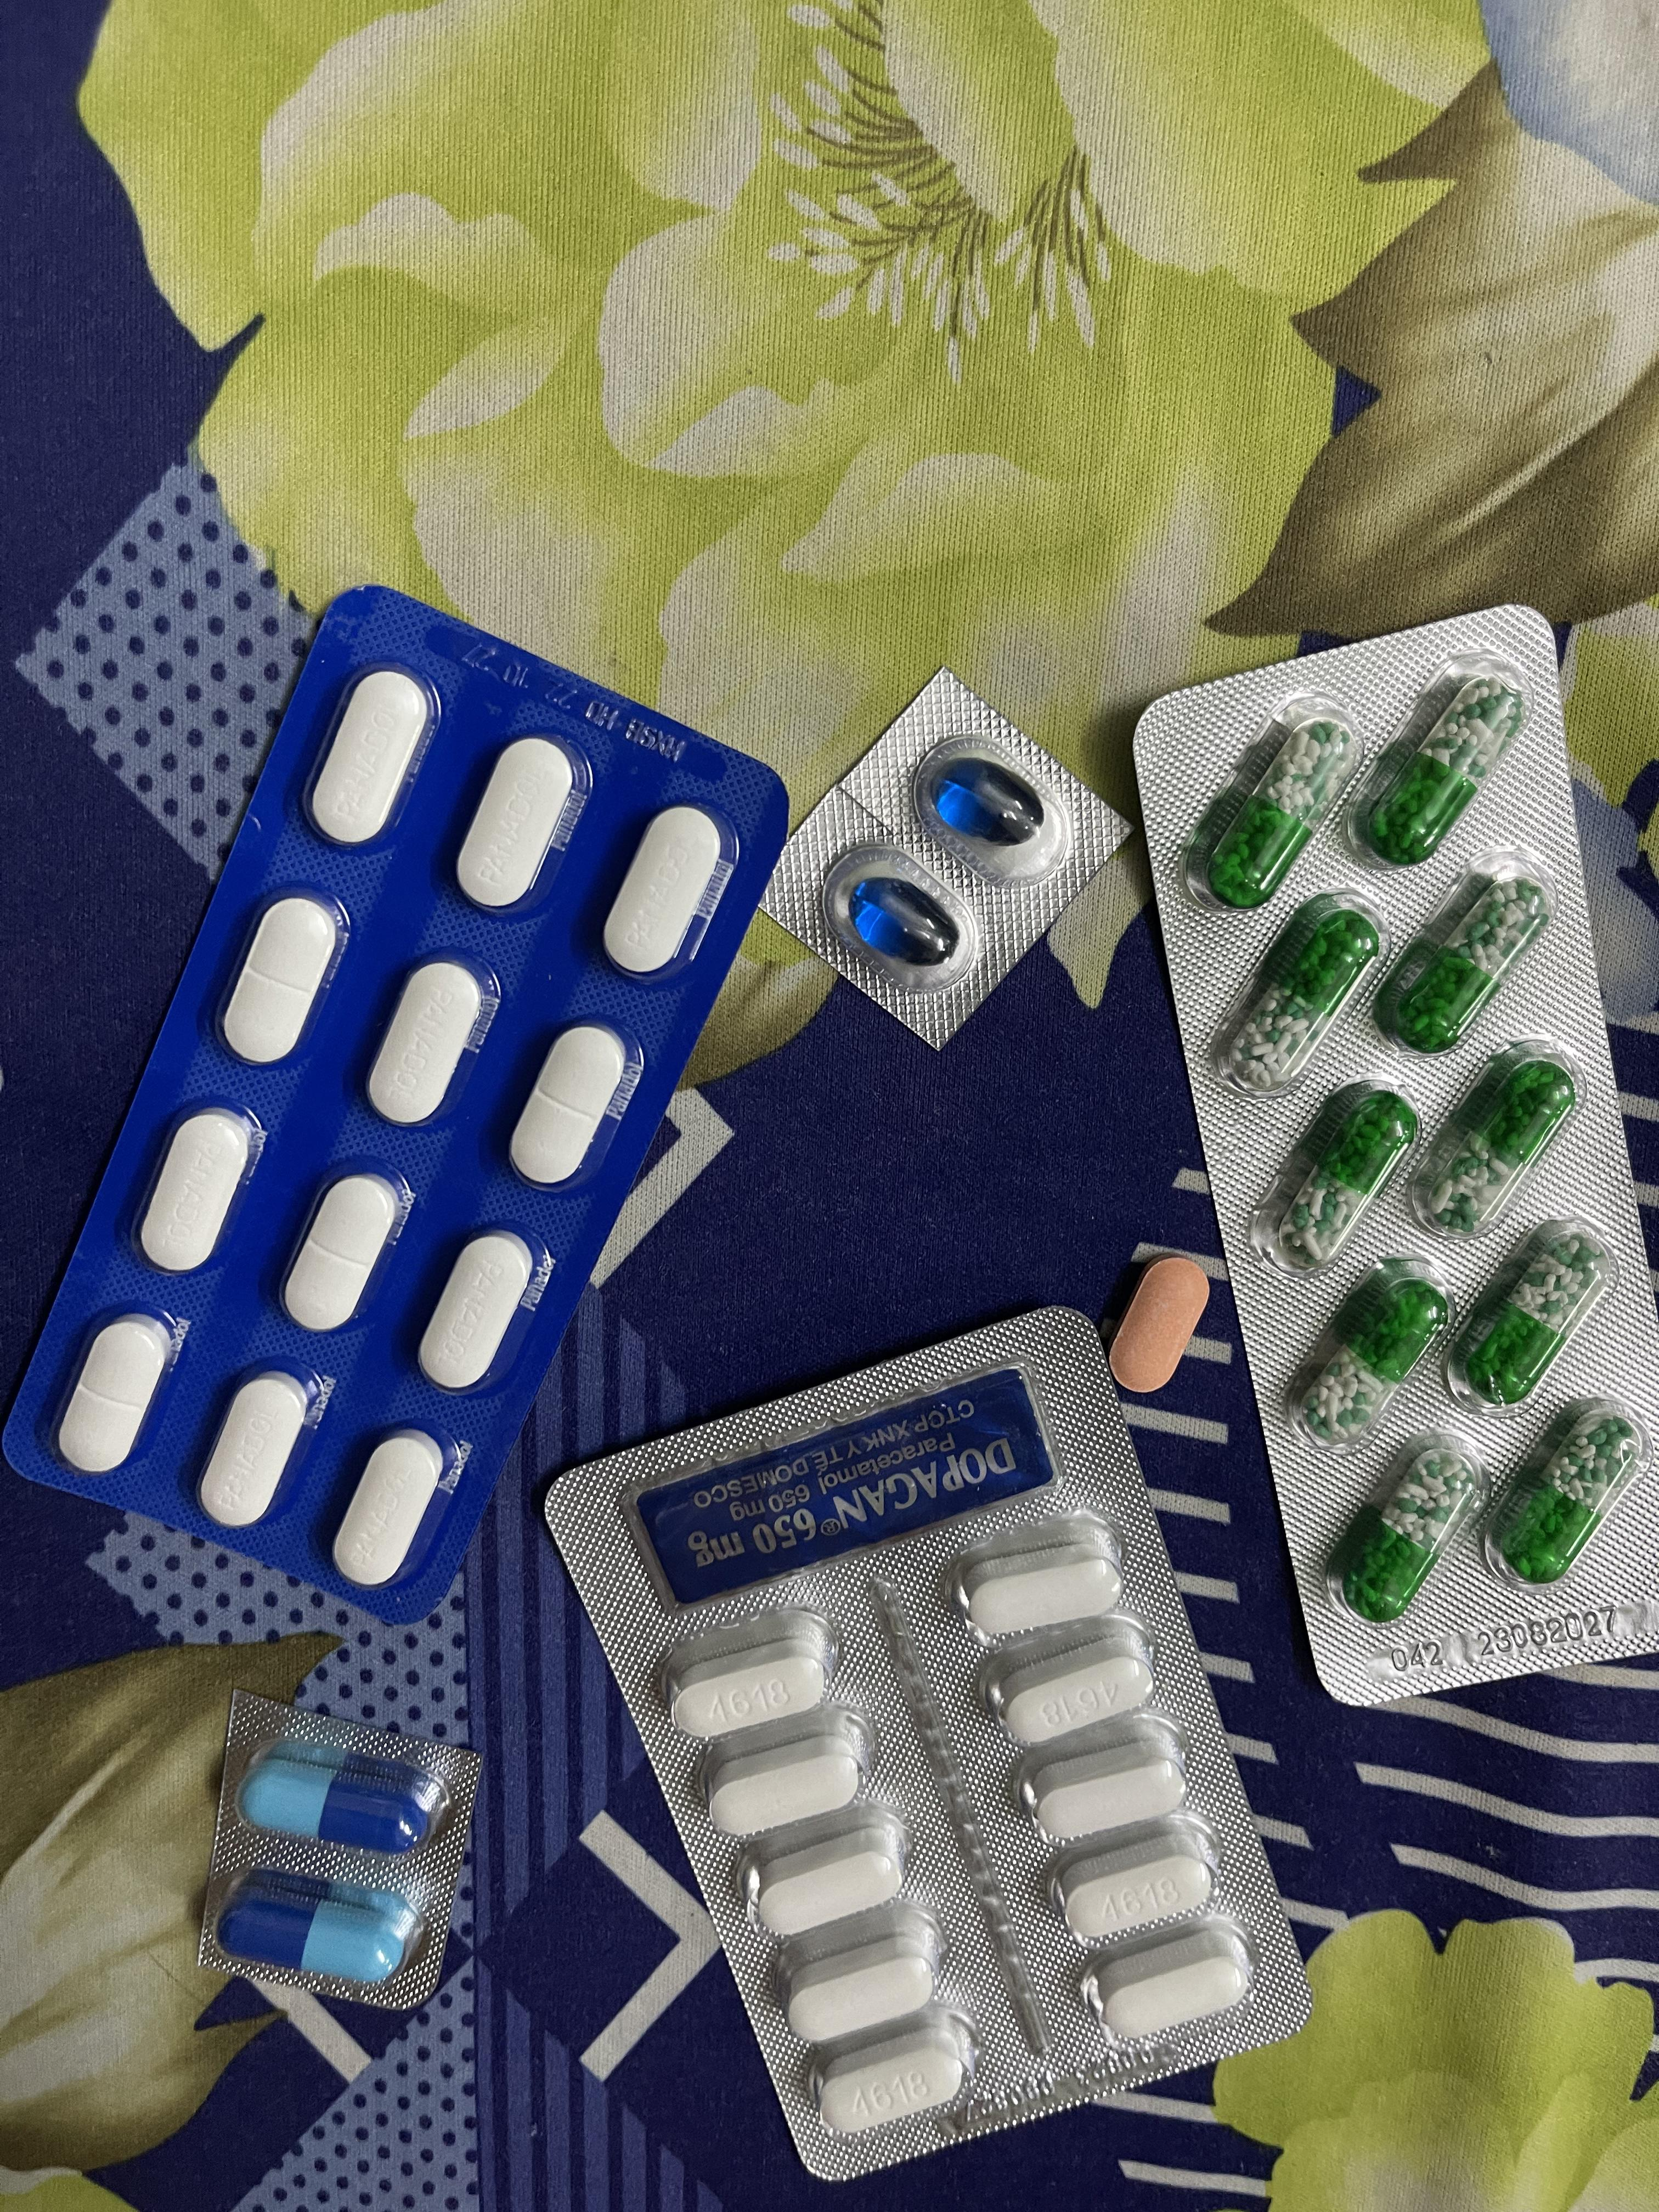Lincomyxin_500mg: (850, 876, 961, 964), (933, 759, 1046, 845)
Loratadine_10mg: (1109, 1259, 1206, 1395)
Paracetamol_350mg: (456, 735, 585, 913), (366, 955, 496, 1130), (308, 672, 435, 849), (600, 804, 727, 980), (138, 1096, 263, 1274), (416, 1226, 542, 1394), (509, 1023, 633, 1192), (195, 1364, 323, 1528), (221, 895, 341, 1069), (282, 1169, 407, 1333), (56, 1312, 176, 1476), (332, 1434, 448, 1591)
Paracetamol_500mg: (979, 1618, 1162, 1752), (1046, 1813, 1222, 1940), (697, 1705, 870, 1833), (1015, 1719, 1191, 1841), (783, 1940, 941, 2046), (748, 1837, 902, 1937), (818, 2033, 969, 2131), (671, 1654, 827, 1748), (961, 1554, 1121, 1639), (1097, 1948, 1240, 2040)
Paracetamol_650mg: (1417, 1055, 1580, 1236), (1393, 877, 1549, 1056), (1459, 1226, 1608, 1403), (1375, 682, 1523, 860), (1334, 1442, 1481, 1615), (1299, 1278, 1447, 1447), (1235, 907, 1379, 1079), (1217, 723, 1352, 900), (1496, 1414, 1638, 1578), (1282, 1094, 1417, 1260)
pill: (212, 1867, 424, 1984), (239, 1739, 450, 1855)
